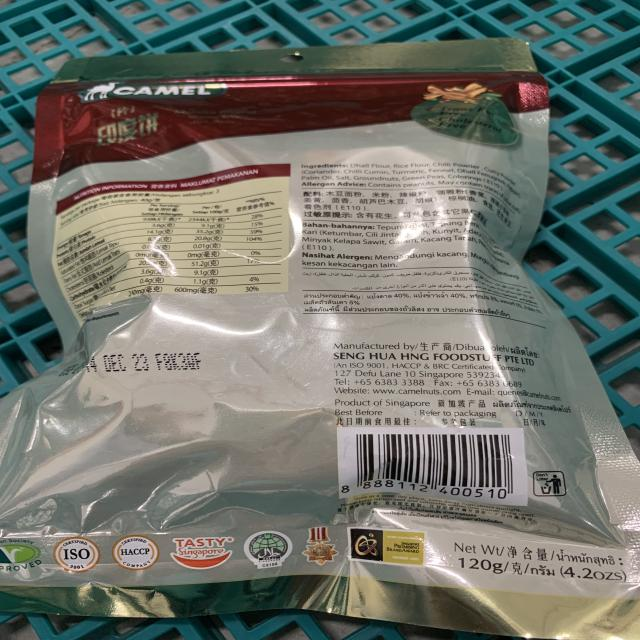object_name: (21, 57, 640, 627)
